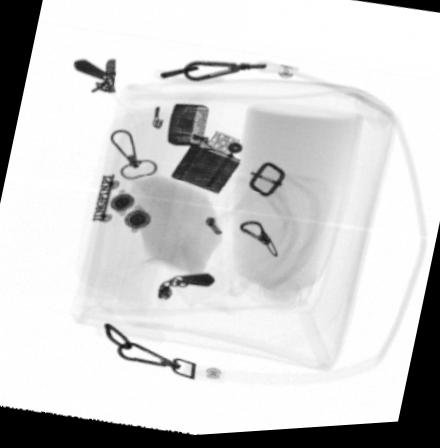Lighter: (166, 104, 244, 198)
